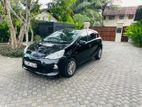car: (19, 25, 106, 84)
